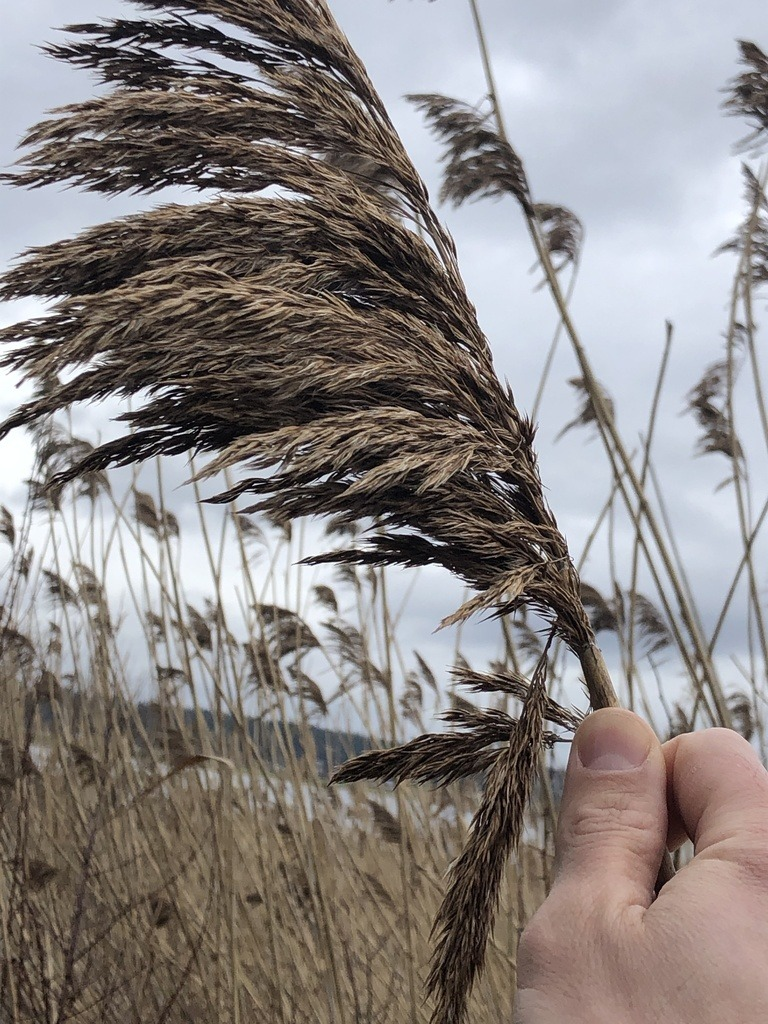common reed: (2, 4, 765, 1017)
